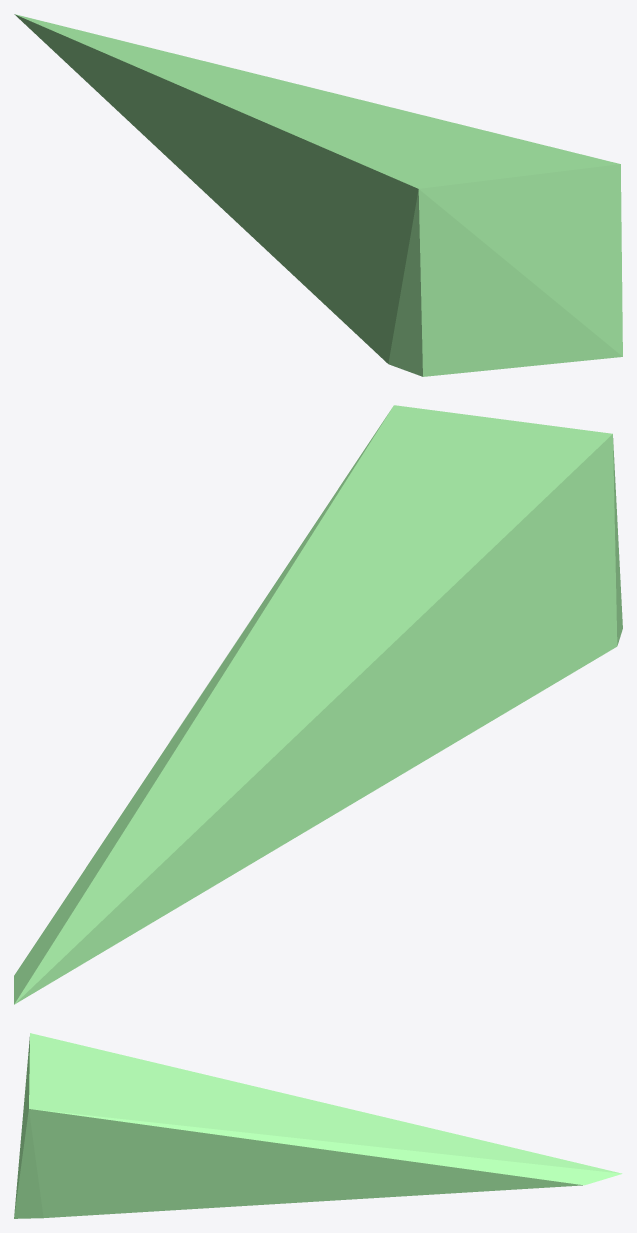
File: UMIRobot_UMIRobot_link_3_convex_coll_22.dae
3 renders of one model, top to bottom at view 1: azimuth 30°, elevation 25°; view 2: azimuth 150°, elevation 25°; view 3: azimuth 270°, elevation 25°, orthographic. The views are drawn at different scales.
Visible parts, largest first — view 1: node; view 2: node; view 3: node.
Part boxes in pixels (box(x1,y1,x2,y2)): node: box(14, 14, 622, 376); node: box(14, 405, 622, 1004); node: box(14, 1033, 622, 1218).
Bounding box in the file's own units: 0.0108 × 0.00968 × 0.0418.
